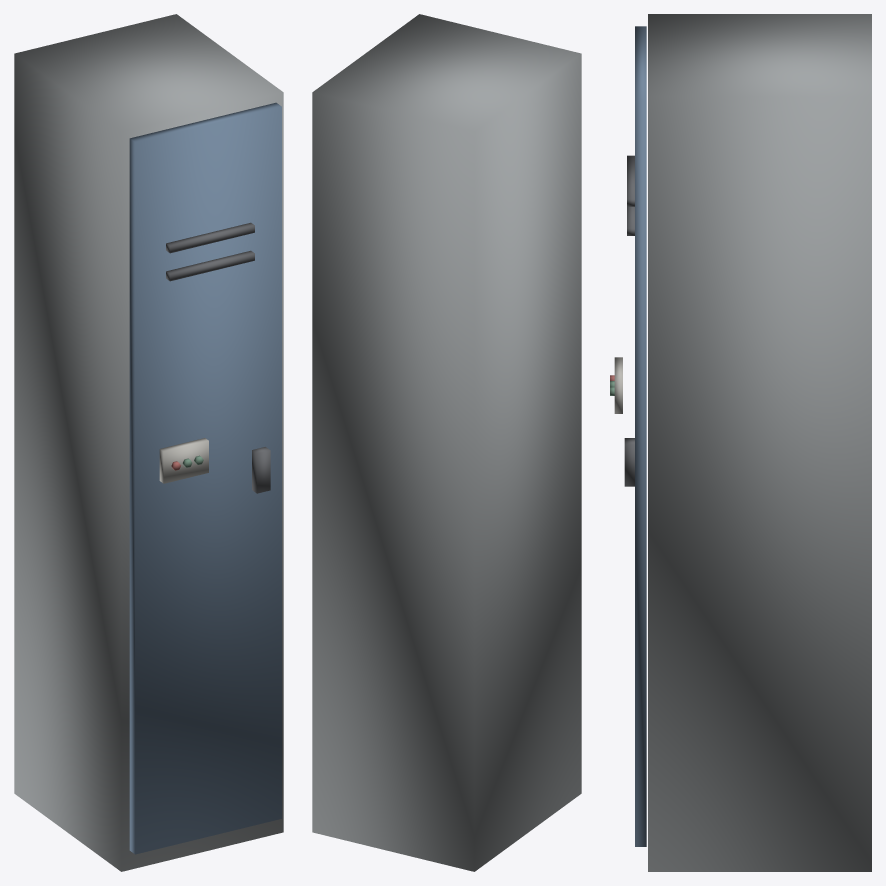
The model's file is single_locker__reinforced.glb.
The picture shows the model from 3 angles, left to right: view 1: azimuth 30°, elevation 25°; view 2: azimuth 150°, elevation 25°; view 3: azimuth 270°, elevation 25°; orthographic projection. The views are drawn at different scales.
Parts seen in each view (by area): view 1: world; view 2: world; view 3: world.
Boxes of the visible parts, box(x1,y1,x2,y2) form: world: box(14, 14, 283, 871); world: box(312, 14, 581, 871); world: box(610, 14, 871, 871).
Bounding box in the file's own units: 0.4326 × 1.89 × 0.5778.
